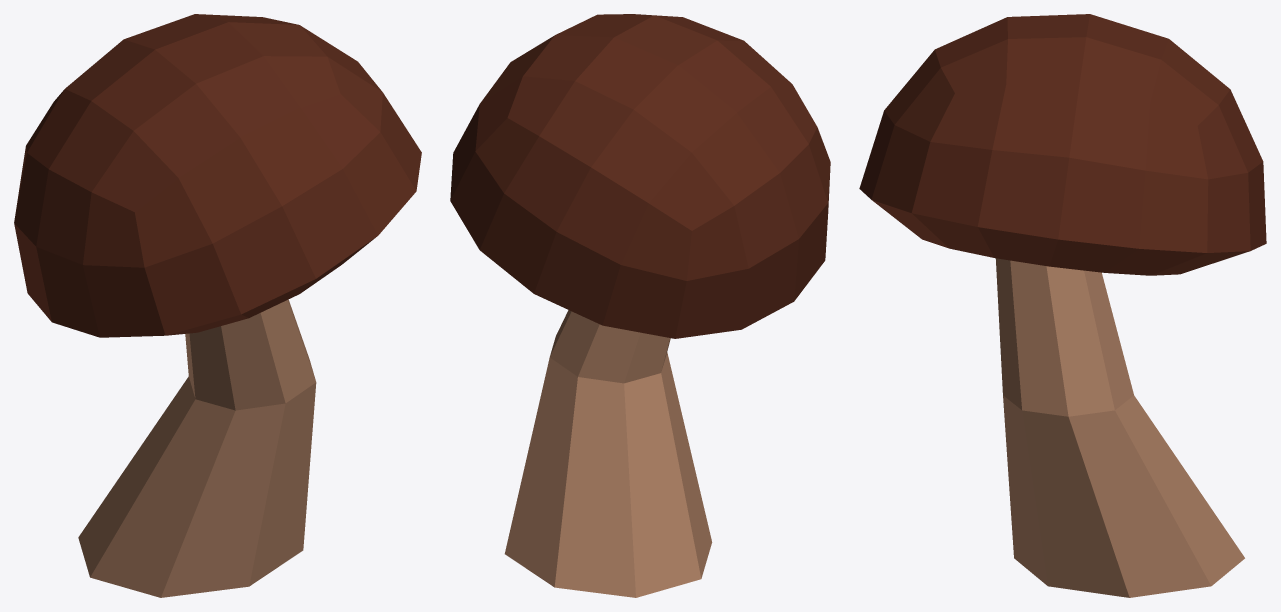
The model's file is mesh_mushroom_02_brown.fbx.
The picture shows the model from 3 angles, left to right: view 1: azimuth 30°, elevation 25°; view 2: azimuth 150°, elevation 25°; view 3: azimuth 270°, elevation 25°; orthographic projection. The views are drawn at different scales.
Parts seen in each view (by area): view 1: mesh_mushroom_02_brown_LOD0; view 2: mesh_mushroom_02_brown_LOD0; view 3: mesh_mushroom_02_brown_LOD0.
Boxes of the visible parts, left/top/right/bottom form: mesh_mushroom_02_brown_LOD0: left=14, top=14, right=421, bottom=597; mesh_mushroom_02_brown_LOD0: left=450, top=14, right=830, bottom=597; mesh_mushroom_02_brown_LOD0: left=859, top=14, right=1266, bottom=597.
Size of what is drawn, in the model's own units: 0.2644 by 0.3907 by 0.2681.
